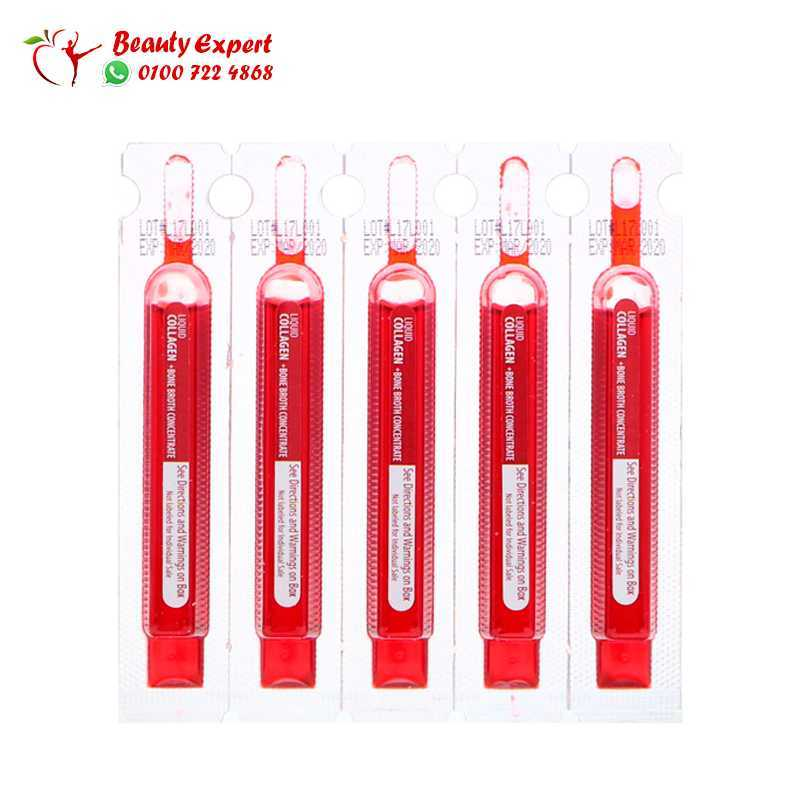Medicine: (450, 140, 568, 712), (220, 140, 334, 702), (116, 146, 224, 728), (576, 144, 678, 696), (346, 136, 442, 718)
